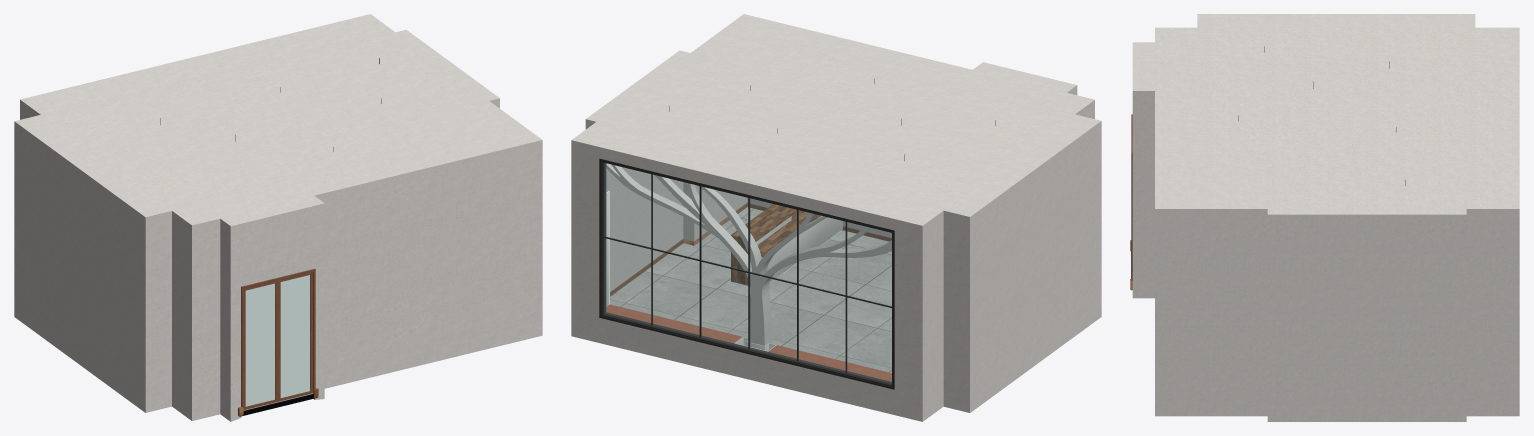
File: scenario.glb
The picture shows the model from 3 angles, left to right: view 1: azimuth 30°, elevation 25°; view 2: azimuth 150°, elevation 25°; view 3: azimuth 270°, elevation 25°; orthographic projection. The views are drawn at different scales.
Visible parts, largest first — view 1: MURI, soffitto, vetro_porta, stipite_porta; view 2: soffitto, MURI, vetro_finestra, pavimento, stipite_finestra, albero, seduta_finestra_cuscino, stand_base_cemento, stand_legno_alto, battiscopa, stand_legno_base, colonna_destra; view 3: MURI, soffitto.
Boxes of the visible parts, bbox=[...] form: MURI: bbox=[14, 99, 542, 421]; soffitto: bbox=[14, 14, 542, 231]; vetro_porta: bbox=[245, 275, 309, 406]; stipite_porta: bbox=[241, 268, 315, 409]; soffitto: bbox=[571, 14, 1100, 230]; MURI: bbox=[571, 87, 1101, 421]; vetro_finestra: bbox=[604, 163, 891, 383]; pavimento: bbox=[610, 207, 891, 372]; stipite_finestra: bbox=[599, 158, 894, 389]; albero: bbox=[606, 163, 891, 345]; seduta_finestra_cuscino: bbox=[606, 304, 891, 381]; stand_base_cemento: bbox=[756, 216, 842, 282]; stand_legno_alto: bbox=[731, 204, 796, 285]; battiscopa: bbox=[610, 202, 891, 296]; stand_legno_base: bbox=[757, 210, 820, 256]; colonna_destra: bbox=[606, 163, 609, 306]; MURI: bbox=[1132, 95, 1519, 421]; soffitto: bbox=[1132, 14, 1519, 218].
Bounding box in the file's own units: 9.96 × 4.98 × 8.17.
Materials: 10 (10 with a texture image).
